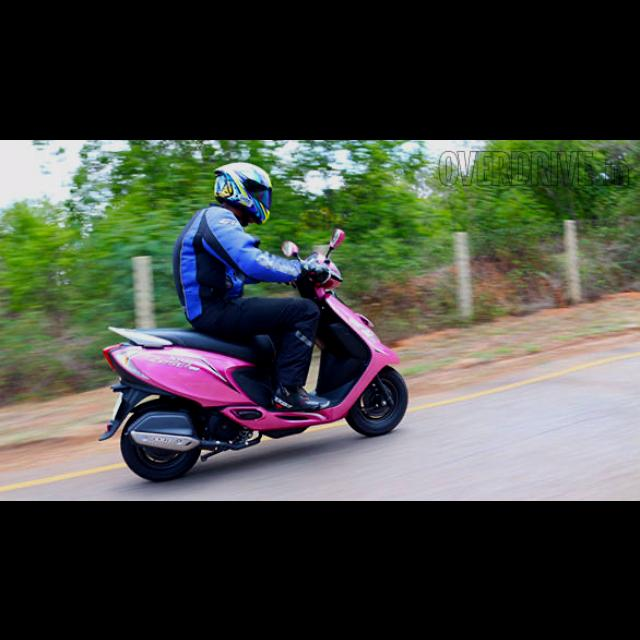With Helmet: (210, 155, 280, 225)
